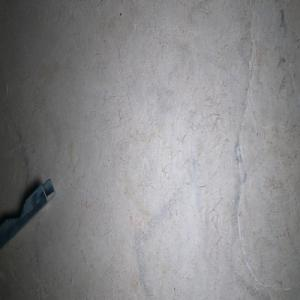ClampPart: (0, 176, 57, 245)
